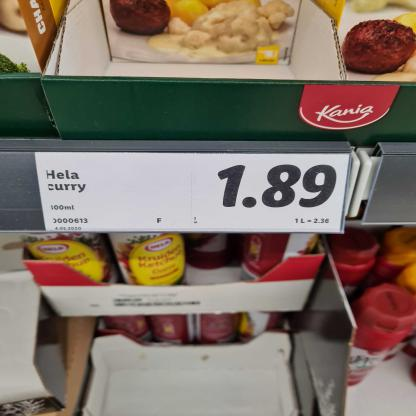prtg: (35, 153, 351, 234)
